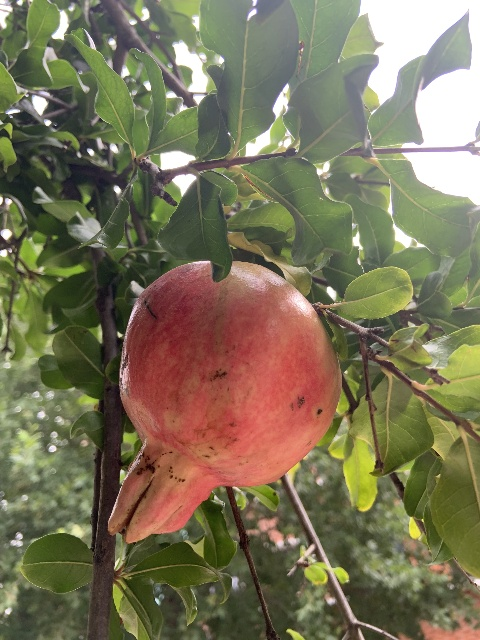ripe: (107, 260, 340, 543)
